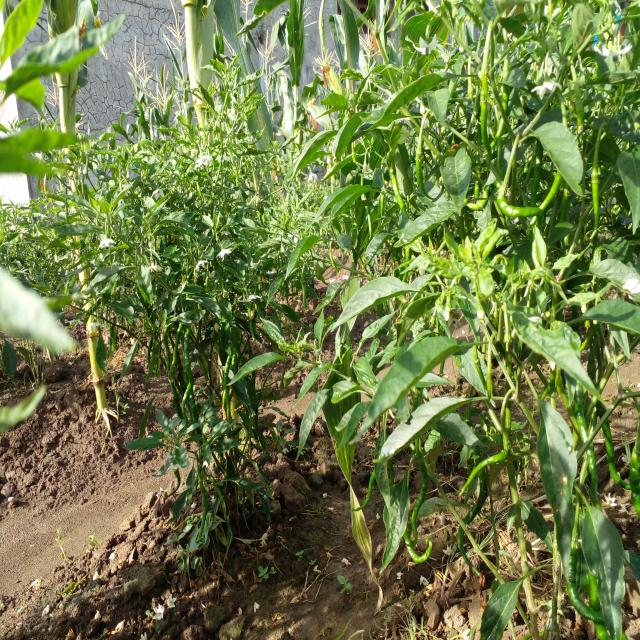sehat: (572, 498, 640, 621), (540, 120, 594, 195), (478, 581, 530, 640)
